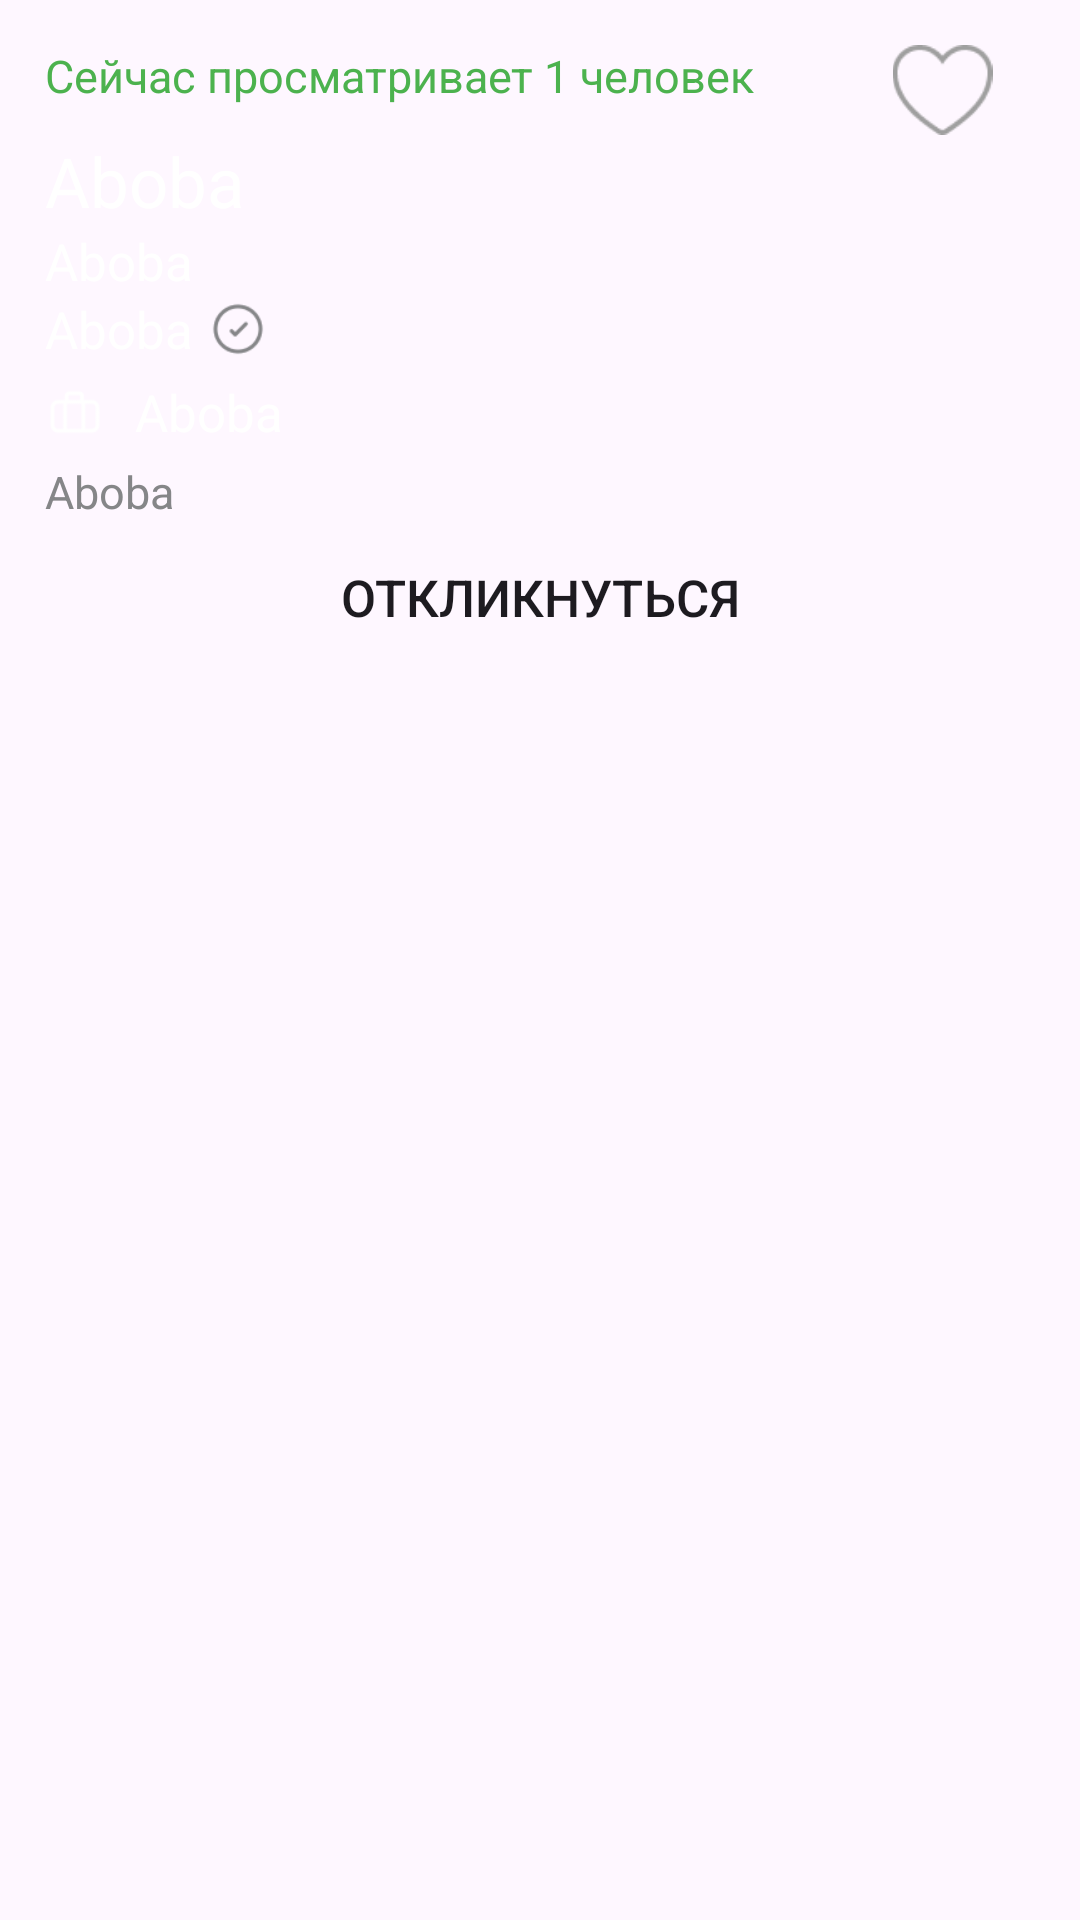

Where to tap for icons on this 1080*1920 app screen, as (x,y):
check: (238,329)
heart: (943,90)
